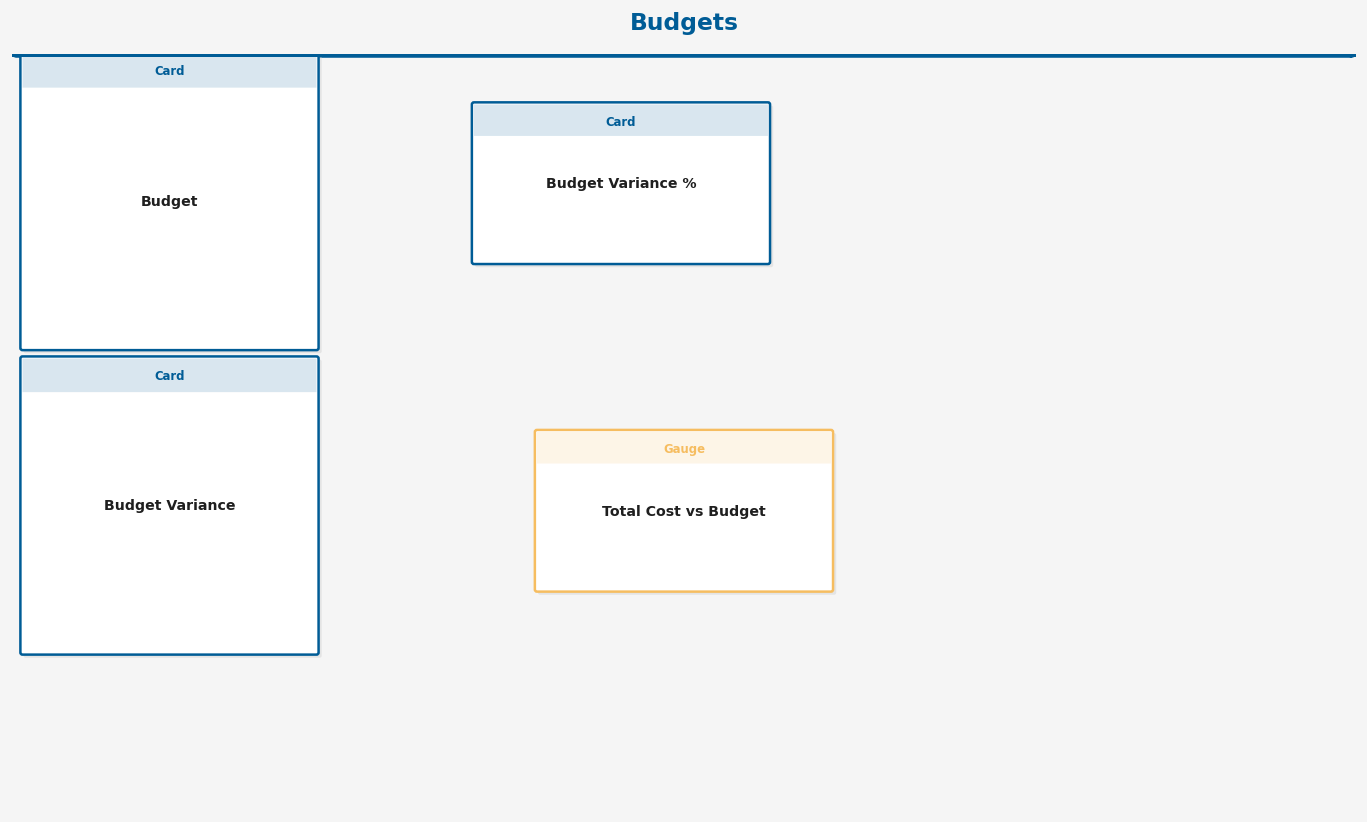

The page's visual inventory and layout, read from the dashboard file:
{"tool":"powerbi","page":{"name":"Budgets","canvas":[1280,720],"ordinal":1},"visuals":[{"type":"cardVisual","fields":{"Data":["CostExports.Budget"]},"box":[10,0,280,280],"z":0},{"type":"cardVisual","fields":{"Data":["CostExports.Budget Variance"]},"box":[10,290,280,280],"z":1},{"type":"cardVisual","fields":{"Data":["CostExports.Budget Variance %"]},"box":[440,48.6,280,150],"z":2},{"type":"gauge","fields":{"Y":["CostExports.Total Cost"],"MaxValue":["CostExports.Budget"]},"box":[500,360,280,150],"z":3}]}

Visuals, with their boxes on the page's 1280x720 design canvas (x1, y1, x2, y2). These are canvas units, not pixel positions in the 1367x822 screenshot, which may show the page scaled, cropped or inside an application window:
cardVisual - CostExports.Budget: <bbox>10, 0, 290, 280</bbox>
cardVisual - CostExports.Budget Variance: <bbox>10, 290, 290, 570</bbox>
cardVisual - CostExports.Budget Variance %: <bbox>440, 49, 720, 199</bbox>
gauge - CostExports.Total Cost x CostExports.Budget: <bbox>500, 360, 780, 510</bbox>
